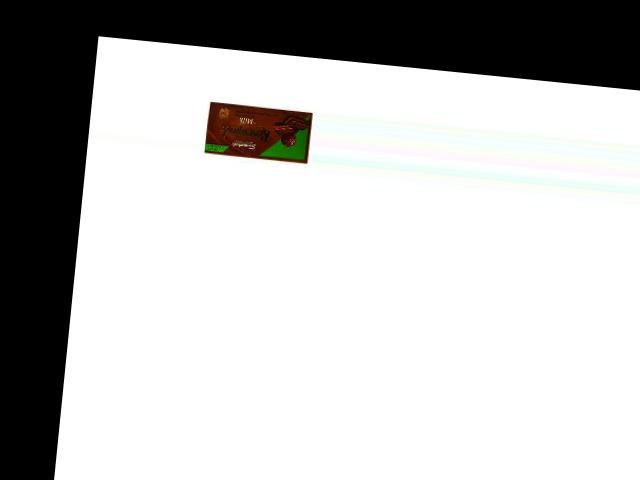chocolate: (200, 96, 314, 165)
